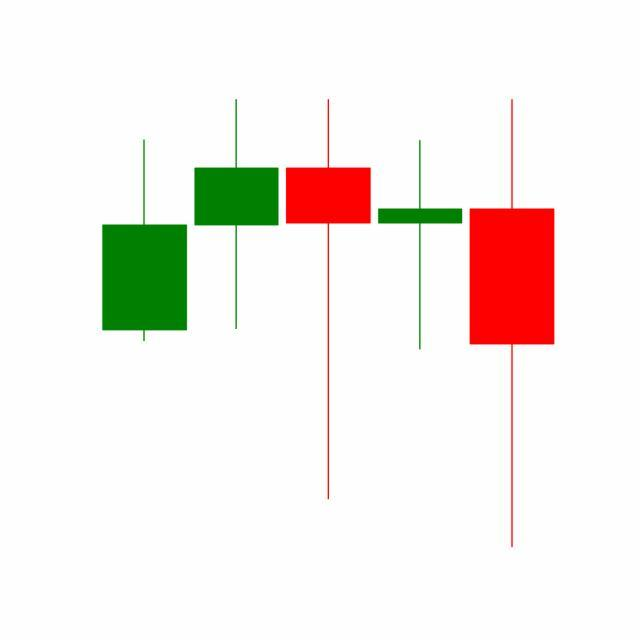Spinning Top: (374, 138, 468, 352)
